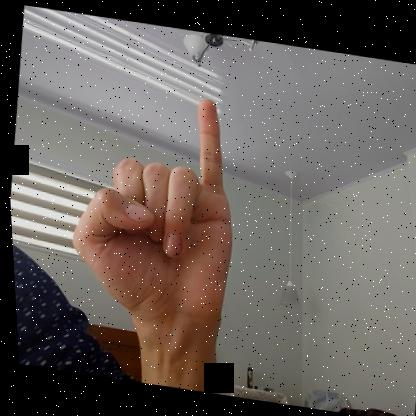I: (53, 76, 252, 321)
